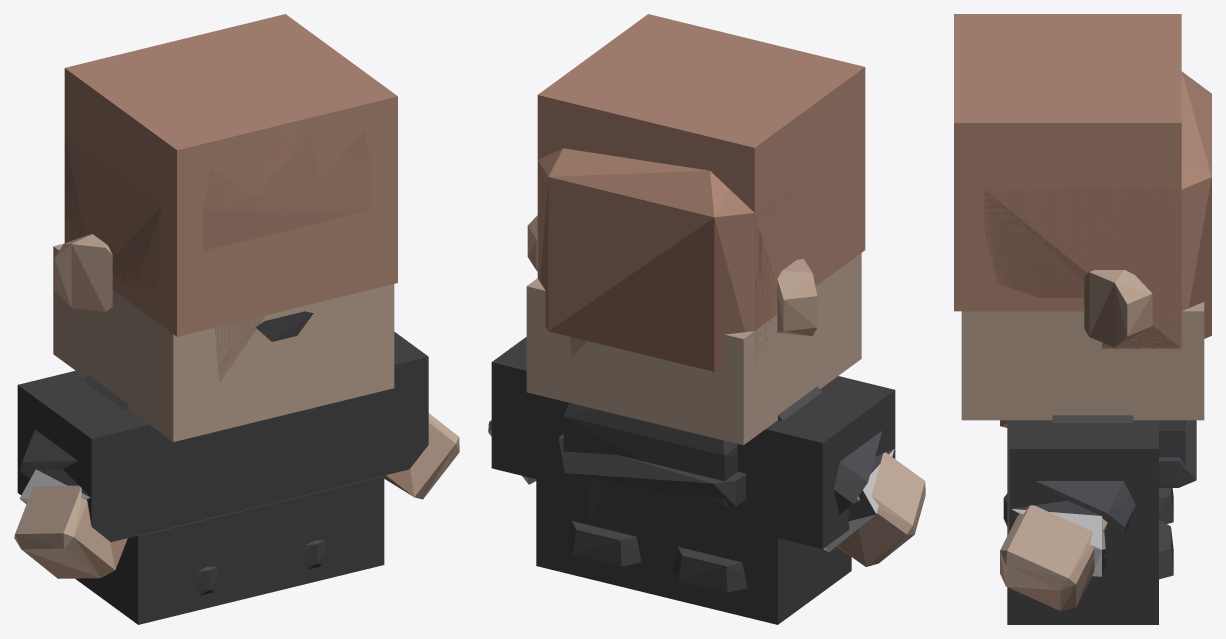
File: person.male-d.glb
3 renders of one model, left to right at view 1: azimuth 30°, elevation 25°; view 2: azimuth 150°, elevation 25°; view 3: azimuth 270°, elevation 25°, orthographic. The views are drawn at different scales.
Visible parts, largest first — view 1: far, near; view 2: far, near; view 3: far, near.
Part boxes in pixels (bbox=[...]): far: bbox=[17, 14, 428, 624]; near: bbox=[14, 122, 459, 595]; far: bbox=[491, 14, 895, 624]; near: bbox=[488, 147, 925, 592]; far: bbox=[954, 14, 1204, 624]; near: bbox=[984, 71, 1211, 610].
Bounding box in the file's own units: 1.56 × 1.7 × 0.8008.
